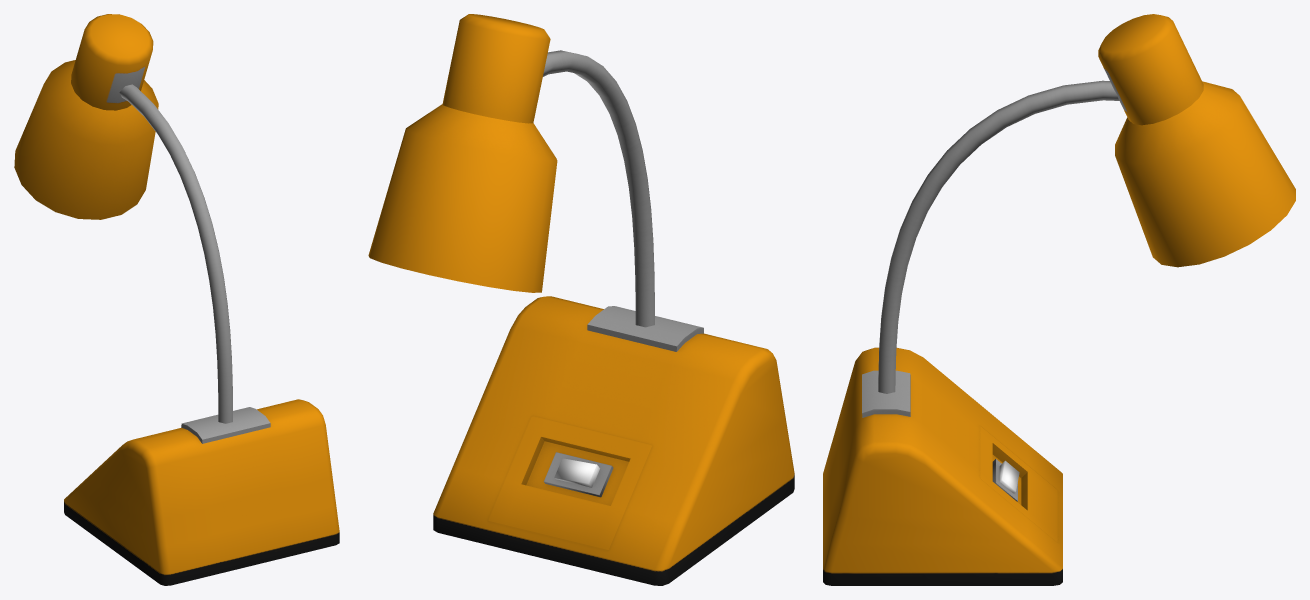
Rendered from c_desklamp_01.fbx.
3 views of the same model, side by side, from view 1: azimuth 30°, elevation 25°; view 2: azimuth 150°, elevation 25°; view 3: azimuth 270°, elevation 25° (orthographic). The views are drawn at different scales.
Visible parts, largest first — view 1: c_desklamp_01; view 2: c_desklamp_01; view 3: c_desklamp_01.
Part boxes in pixels (x1,y1,x2,y2): c_desklamp_01: (14,14,339,585); c_desklamp_01: (368,14,794,585); c_desklamp_01: (823,14,1295,585).
Bounding box in the file's own units: 23.56 × 55.75 × 46.45.
